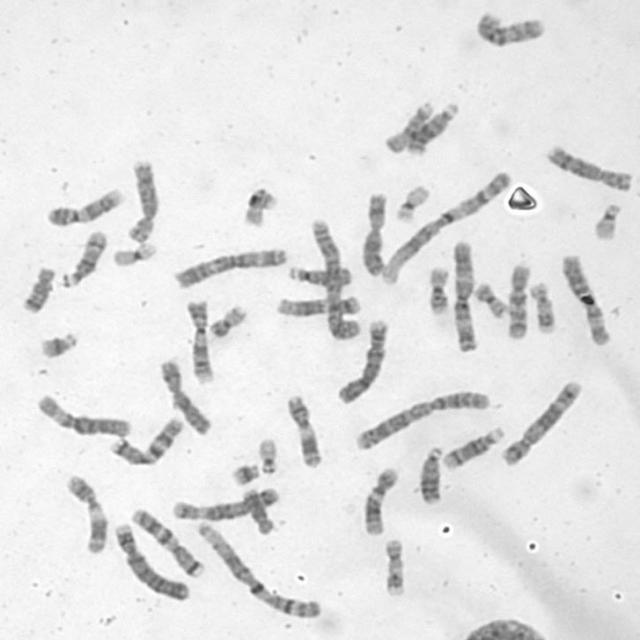A1: (377, 164, 515, 284), (192, 517, 326, 621)
A2: (350, 385, 495, 452), (307, 214, 364, 342)
A3: (170, 242, 290, 290), (448, 235, 480, 354)
B4: (109, 518, 191, 602), (333, 313, 390, 405)
B5: (496, 374, 584, 467), (168, 482, 281, 522)
C10: (472, 6, 548, 49), (502, 257, 532, 341)
C11: (61, 469, 110, 555), (282, 389, 326, 469)
C12: (359, 462, 401, 536), (273, 291, 363, 318)
C6: (557, 248, 614, 347), (31, 389, 134, 440)
C7: (128, 502, 208, 580), (108, 412, 186, 467)
C8: (542, 140, 636, 192), (124, 154, 161, 244)
C9: (43, 182, 127, 228), (182, 296, 216, 386)
D13: (400, 98, 460, 156), (415, 441, 446, 506)
D14: (55, 225, 110, 290), (439, 421, 507, 471)
D15: (380, 96, 437, 156), (282, 260, 354, 288)
E16: (240, 182, 279, 228), (423, 262, 452, 315)
E17: (378, 532, 408, 599), (526, 276, 559, 335)
E18: (17, 261, 57, 315), (239, 483, 278, 536)
F19: (392, 179, 432, 223), (109, 236, 160, 269)
F20: (470, 277, 511, 319), (206, 300, 250, 339)
G21: (34, 326, 81, 360), (227, 459, 263, 487)
G22: (588, 197, 624, 242), (253, 432, 281, 476)
X: (154, 354, 214, 436), (359, 187, 391, 277)
